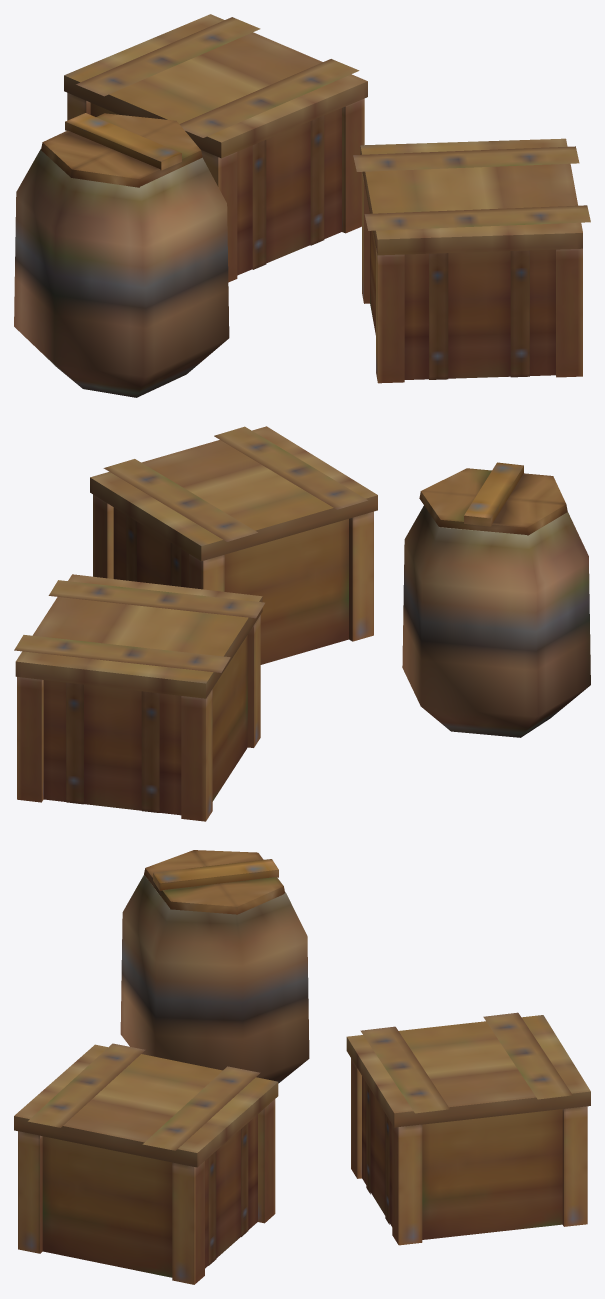
File: area_03_16.fbx
3 renders of one model, top to bottom at view 1: azimuth 30°, elevation 25°; view 2: azimuth 150°, elevation 25°; view 3: azimuth 270°, elevation 25°, orthographic. The views are drawn at different scales.
Visible parts, largest first — view 1: area_03_16; view 2: area_03_16; view 3: area_03_16.
Boxes of the visible parts, box(x1,y1,x2,y2) form: area_03_16: box(14, 14, 590, 397); area_03_16: box(14, 426, 590, 821); area_03_16: box(14, 850, 590, 1284).
Size of the model in its own units: 2.62 by 1.18 by 2.78.
